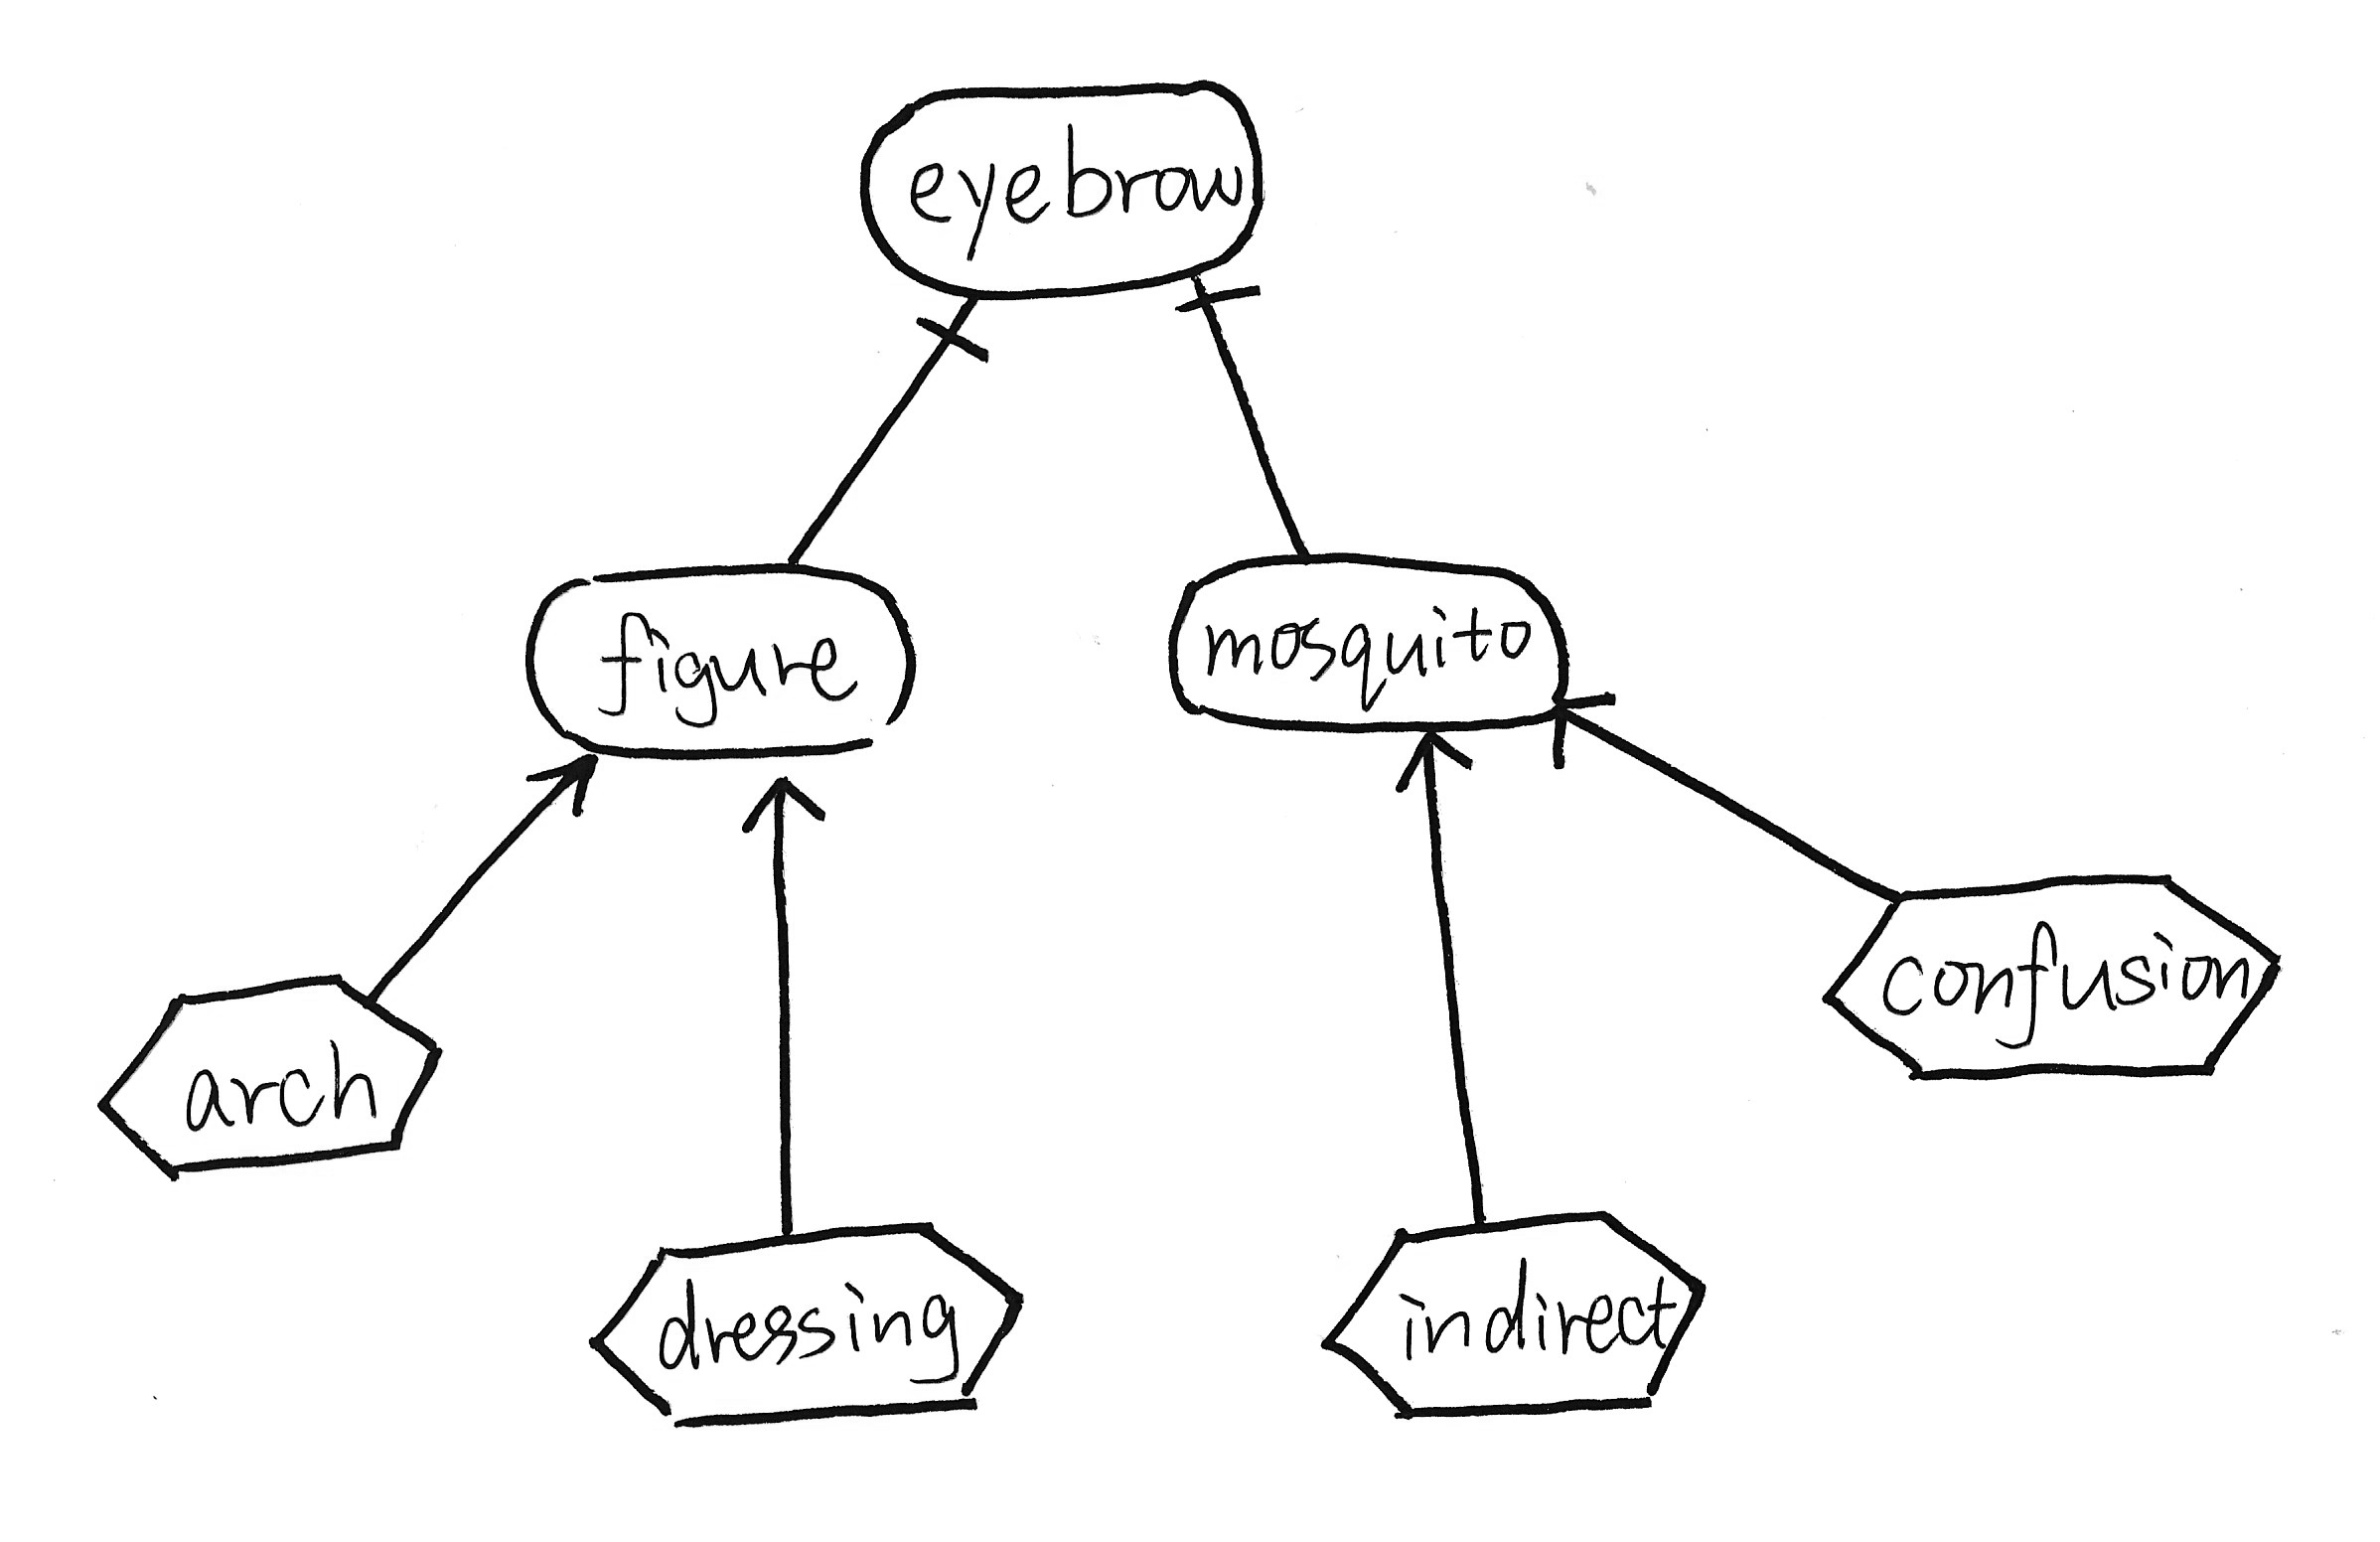and: (907, 290, 1003, 394), (1155, 276, 1289, 349)
arrow: (1537, 683, 1648, 796), (503, 739, 623, 838), (727, 756, 841, 855), (1379, 730, 1490, 810)
goal: (845, 56, 1277, 319), (517, 555, 932, 789), (1148, 541, 1586, 753)
task: (1806, 855, 2309, 1112), (578, 1195, 1044, 1441), (1310, 1197, 1726, 1441), (78, 959, 456, 1193)
